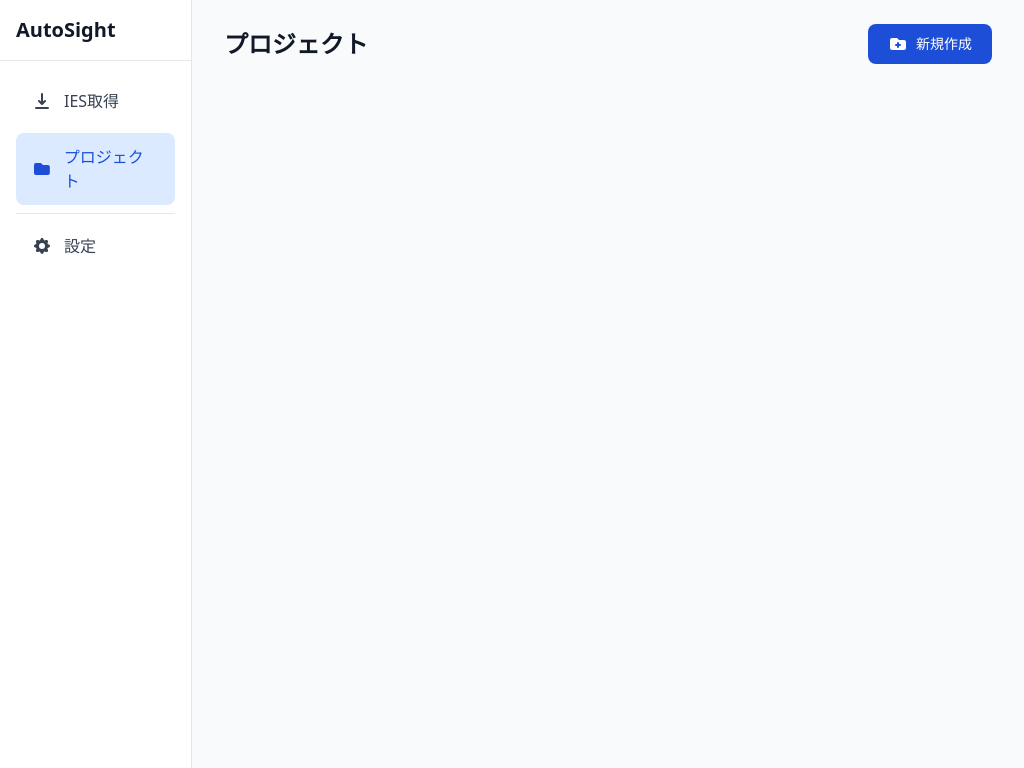
App › Excelファイル読み込み → 器具一覧画面遷移 › Excelファイルを選択すると、器具一覧画面に遷移しテーブルが表示される
初期状態: プロジェクト画面が表示される → IES取得をクリック
Click the button "IES取得" at (96, 101), box left=16, top=77, right=175, bottom=125
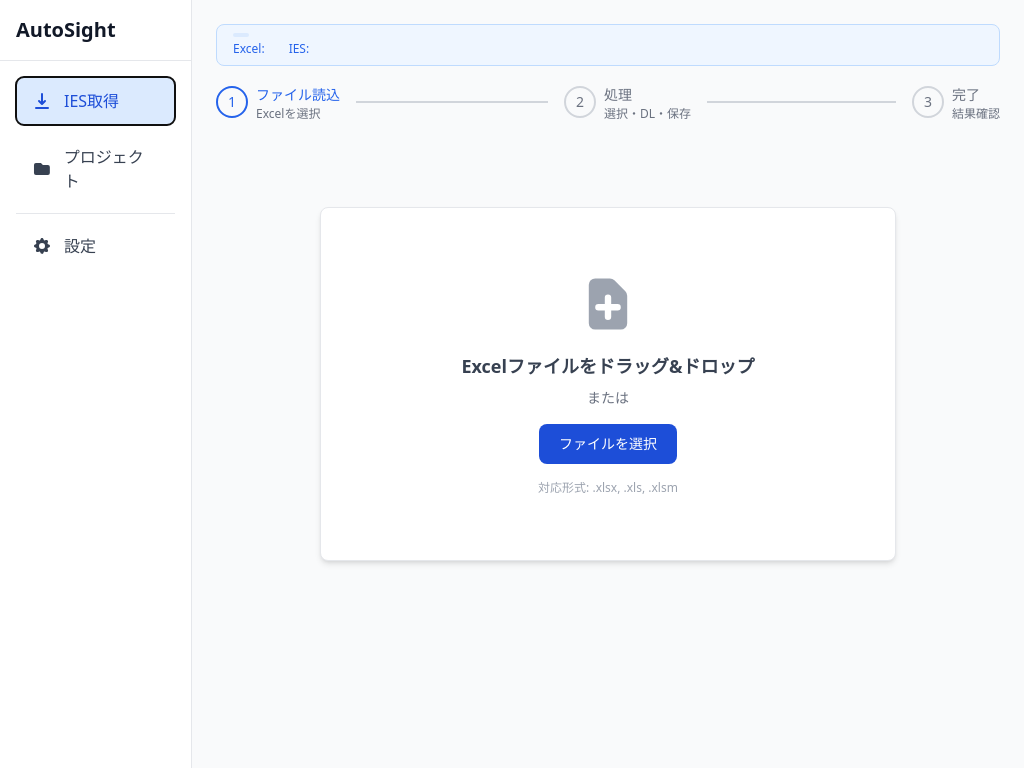
Expected: the button "ファイルを選択" is shown
ファイル選択ボタンをクリック
Click the button "ファイルを選択" at (608, 444), box left=539, top=424, right=677, bottom=464
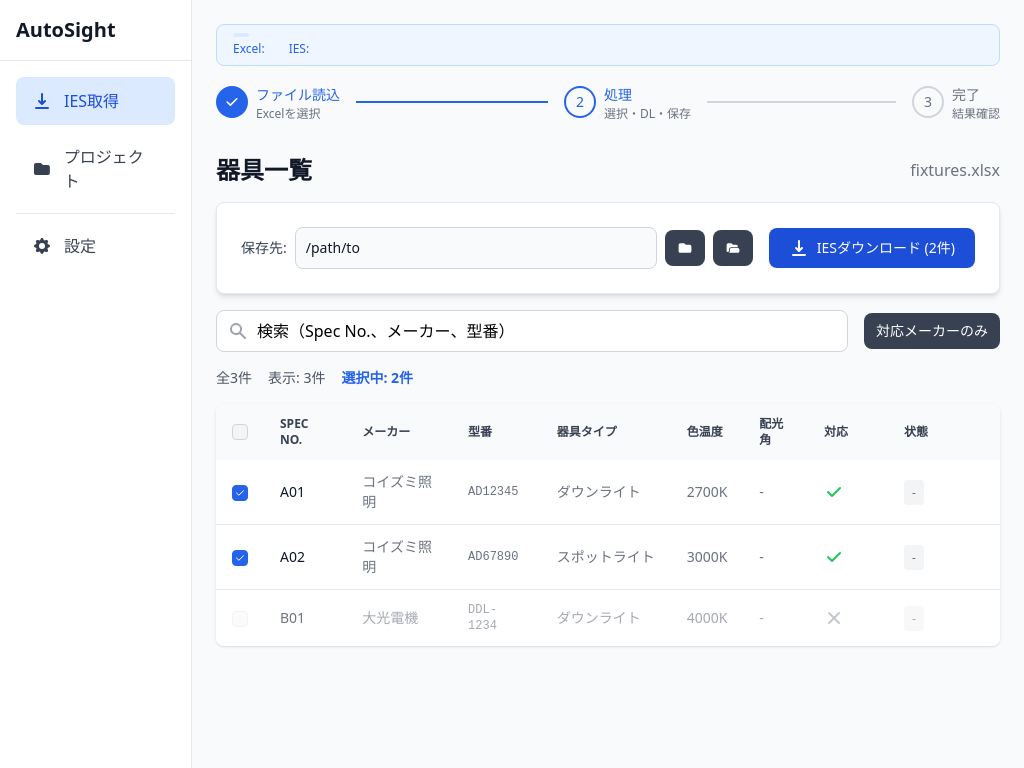
Expected: the heading "器具一覧" is shown, left=216, top=154, right=312, bottom=186
Expected: the text "A01" is shown, left=264, top=460, right=346, bottom=524
Expected: the text "A02" is shown, left=264, top=524, right=346, bottom=590
